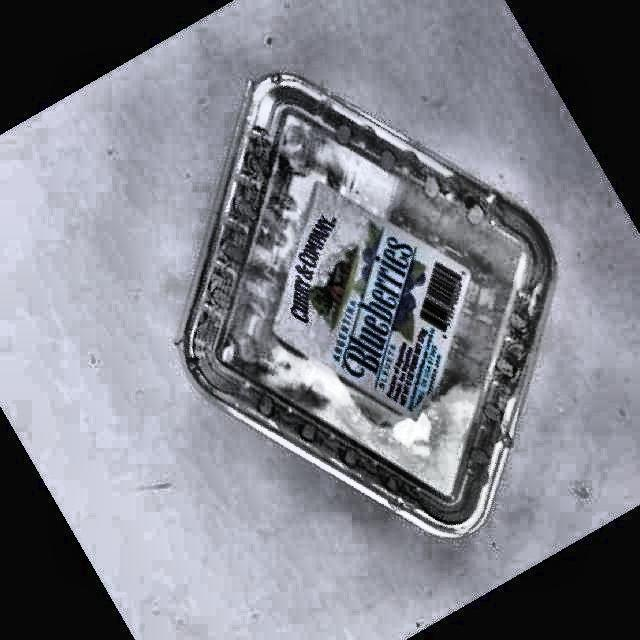plastic: (178, 74, 555, 537)
